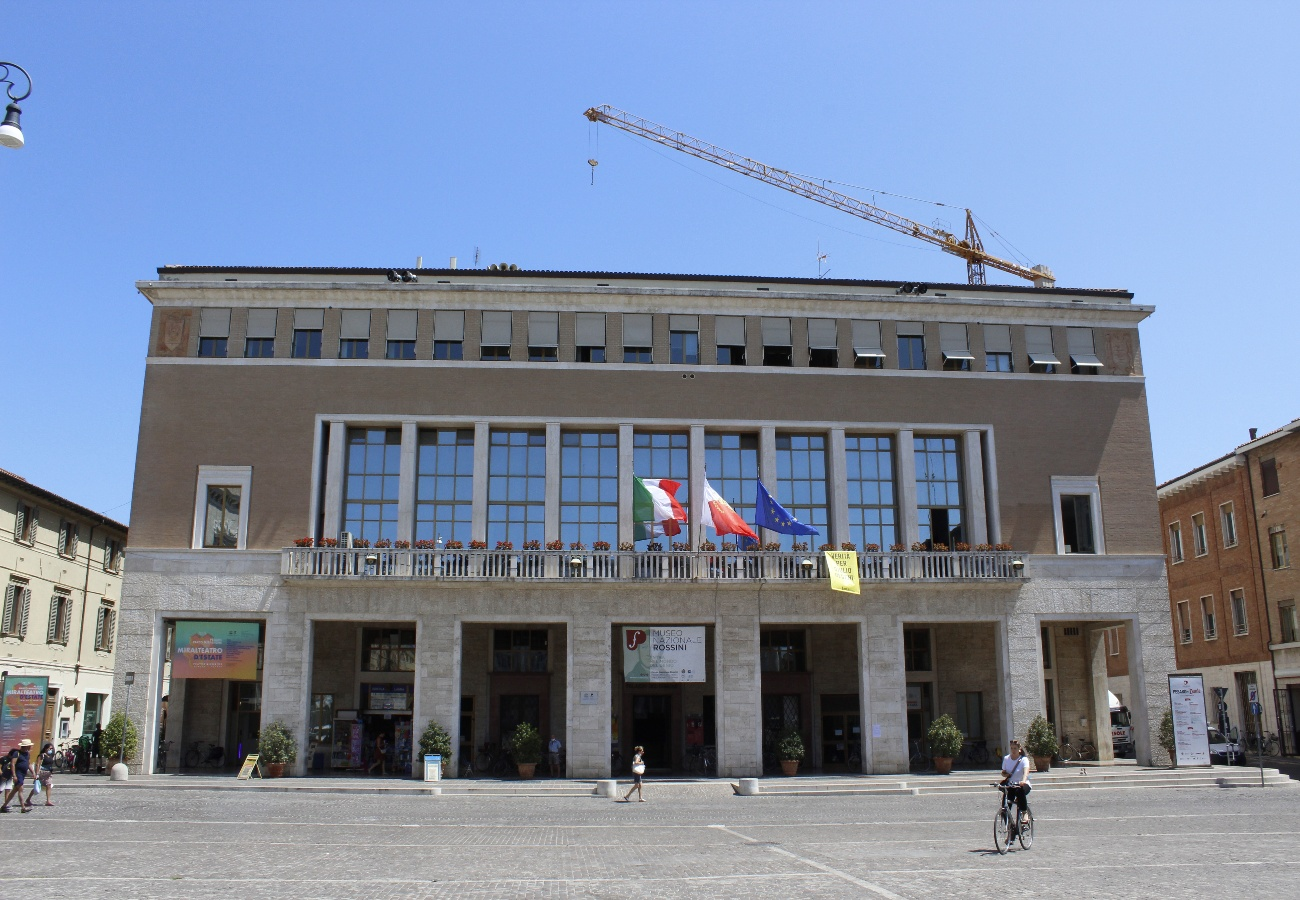Palazzo Comunale: (123, 271, 1171, 775)
